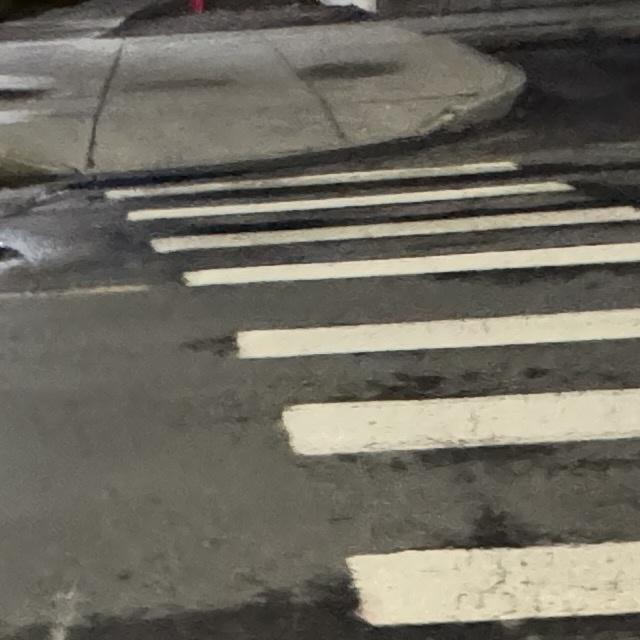curb: (0, 60, 525, 188)
